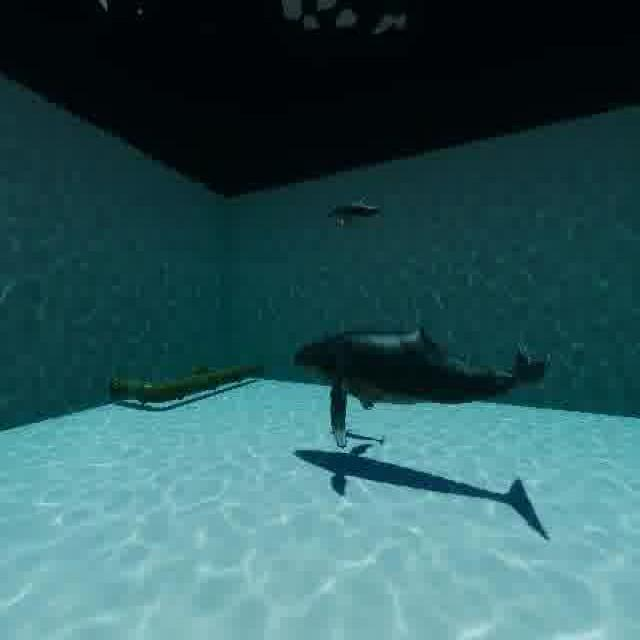Pipe: (107, 349, 270, 415)
Whale: (284, 309, 561, 463), (317, 183, 393, 237)
